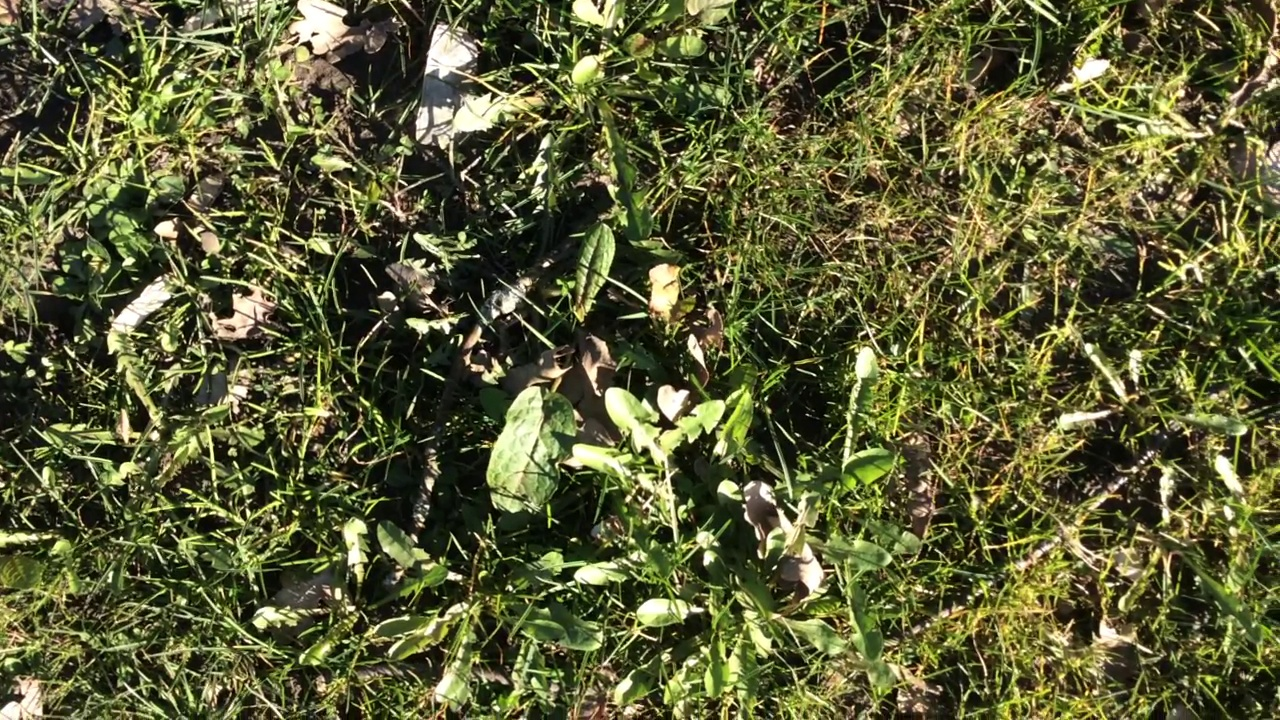rumex: (485, 385, 576, 537), (571, 220, 615, 326)
